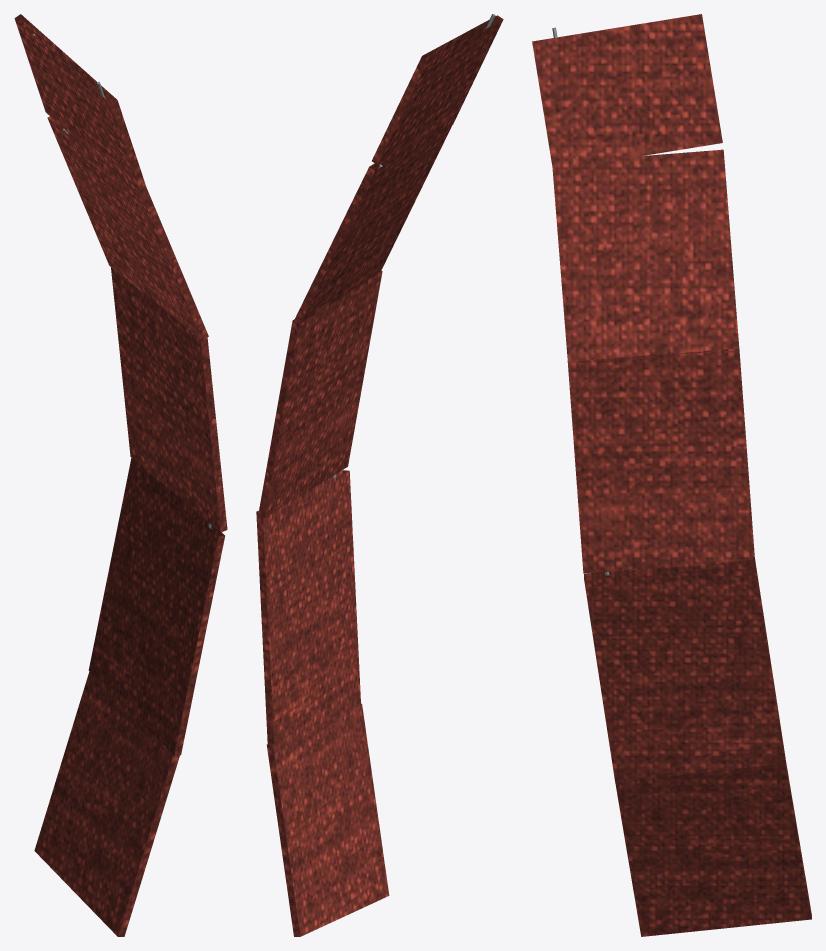
Rendered from flex_seat_aft_tail.fbx.
The picture shows the model from 3 angles, left to right: view 1: azimuth 30°, elevation 25°; view 2: azimuth 150°, elevation 25°; view 3: azimuth 270°, elevation 25°; orthographic projection. The views are drawn at different scales.
Parts seen in each view (by area): view 1: SM_flex_seat_aft_tail; view 2: SM_flex_seat_aft_tail; view 3: SM_flex_seat_aft_tail.
Part boxes in pixels (x1,y1,x2,y2): SM_flex_seat_aft_tail: (14,14,227,936); SM_flex_seat_aft_tail: (256,14,503,936); SM_flex_seat_aft_tail: (532,14,811,936).
Bounding box in the file's own units: 0.0327 × 0.188 × 0.0536.
Materials: 2 (2 with a texture image).
